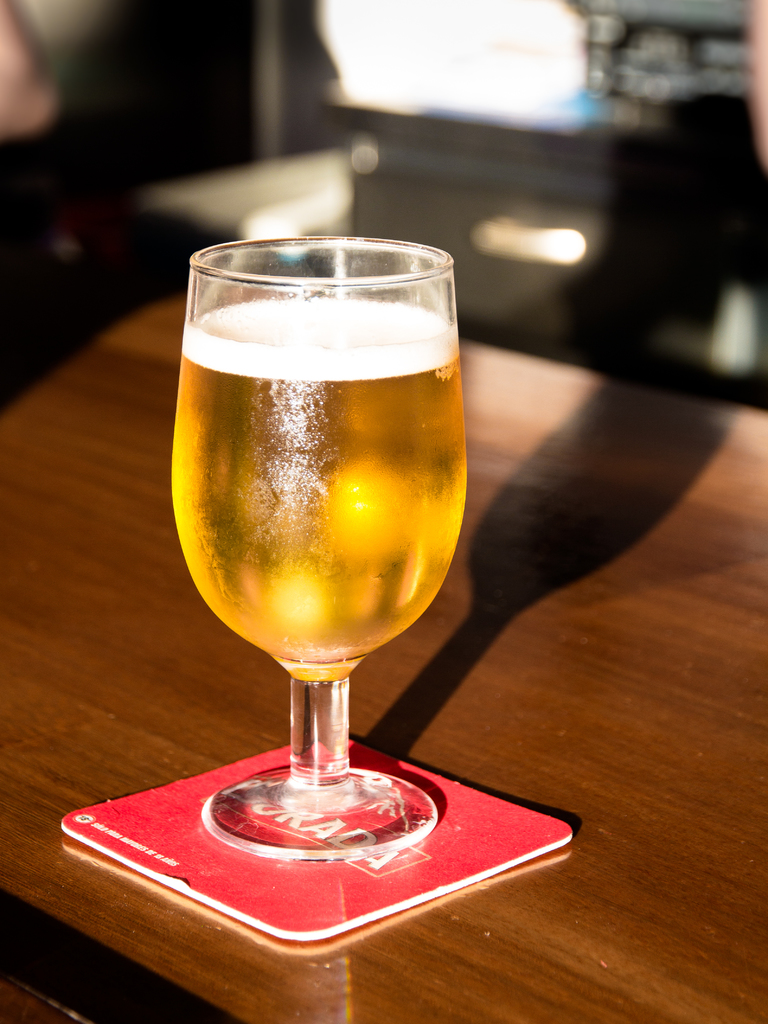Beer: (167, 221, 487, 898)
